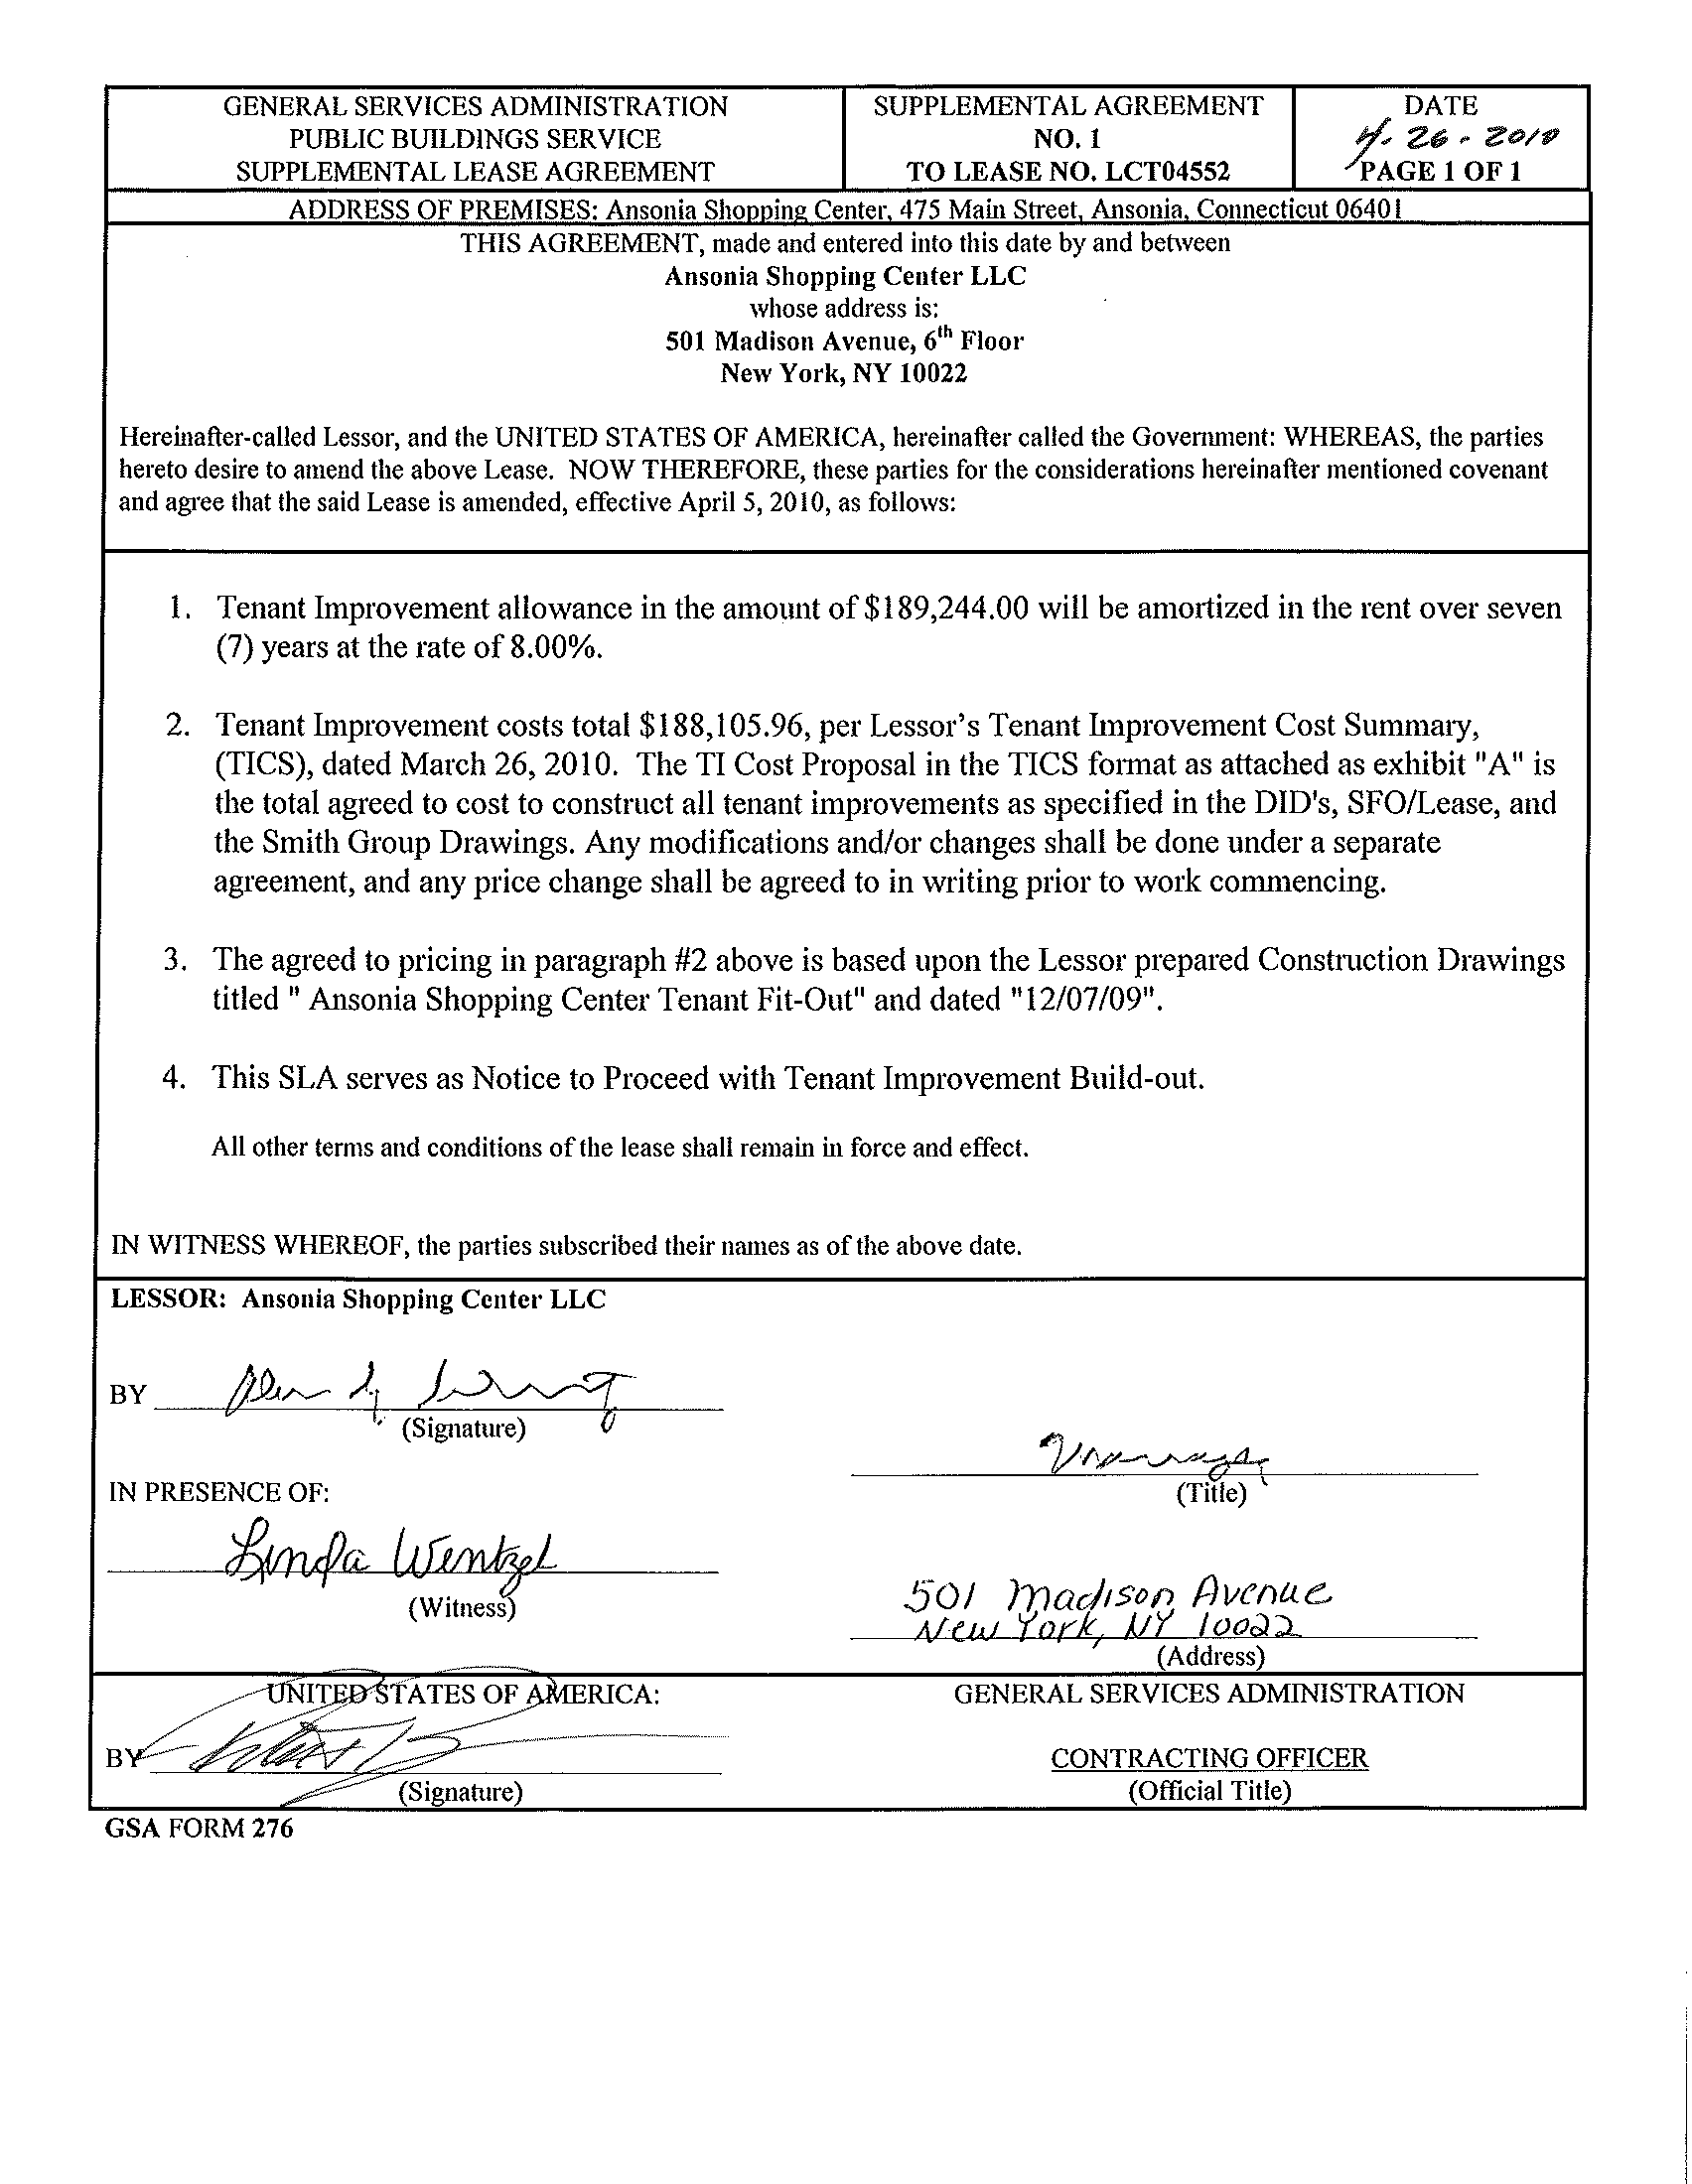handwritten: (145, 1700, 748, 1773), (899, 1567, 1360, 1642), (222, 1512, 564, 1574), (1034, 1422, 1289, 1477), (411, 1354, 651, 1413), (1343, 113, 1571, 147), (218, 1353, 337, 1416), (227, 1771, 383, 1806), (463, 1528, 530, 1606), (584, 1351, 617, 1438), (349, 1353, 380, 1418)
